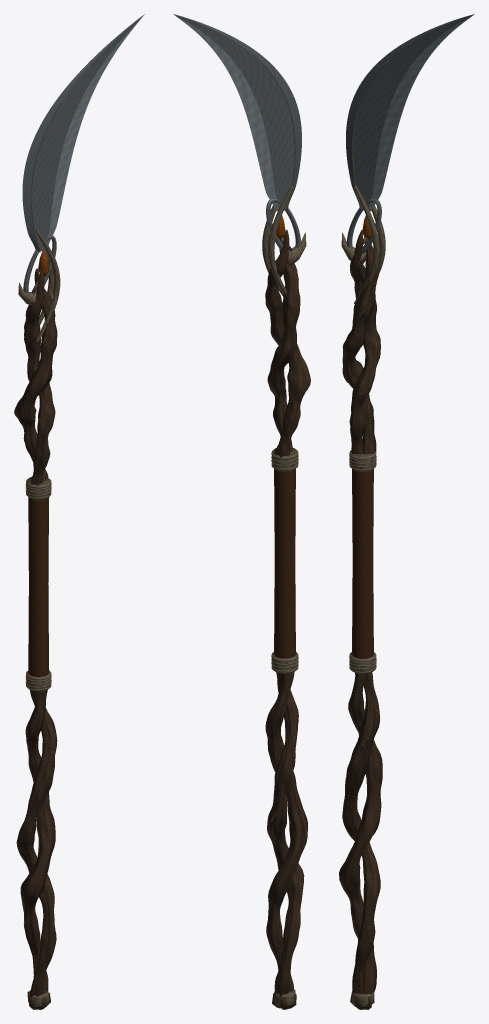
File: thornbound-staff.glb
The picture shows the model from 3 angles, left to right: view 1: azimuth 30°, elevation 25°; view 2: azimuth 210°, elevation 25°; view 3: azimuth 330°, elevation 25°; orthographic projection. The views are drawn at different scales.
Parts seen in each view (by area): view 1: ThornboundStaff; view 2: ThornboundStaff; view 3: ThornboundStaff.
Part boxes in pixels (x1,y1,x2,y2): ThornboundStaff: [14, 14, 144, 1009]; ThornboundStaff: [173, 14, 310, 1009]; ThornboundStaff: [339, 14, 474, 1009].
Bounding box in the file's own units: 0.3203 × 2.34 × 0.0829.
Materials: 1 (1 with a texture image).
